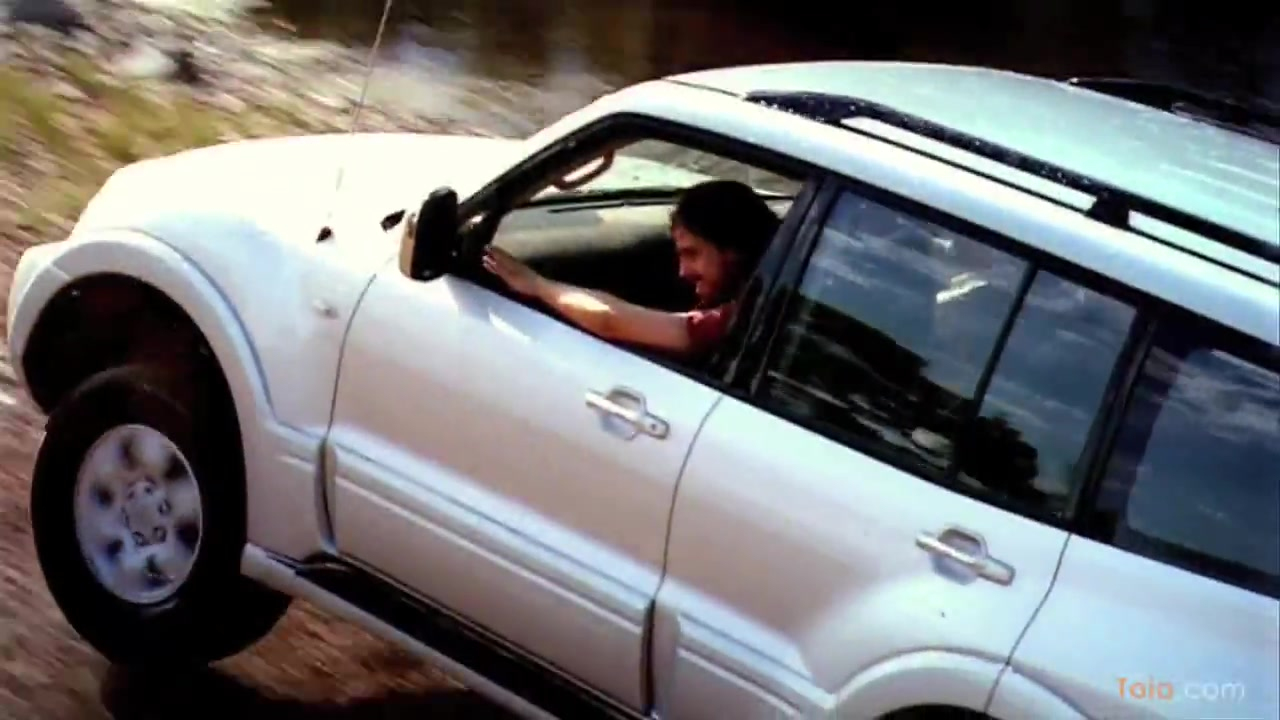car: (4, 55, 1280, 720)
